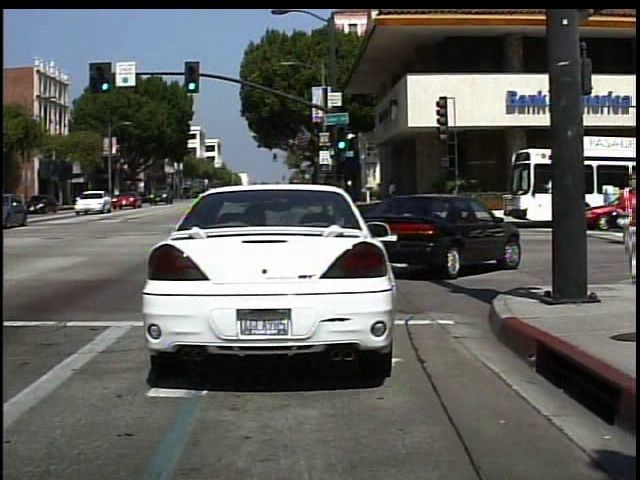person: (611, 167, 639, 283), (383, 174, 401, 216)
